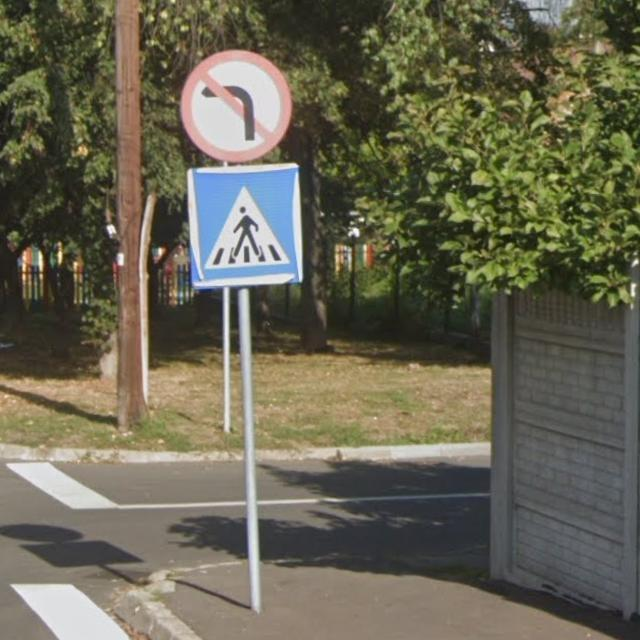info_crosswalk: (187, 164, 307, 289)
